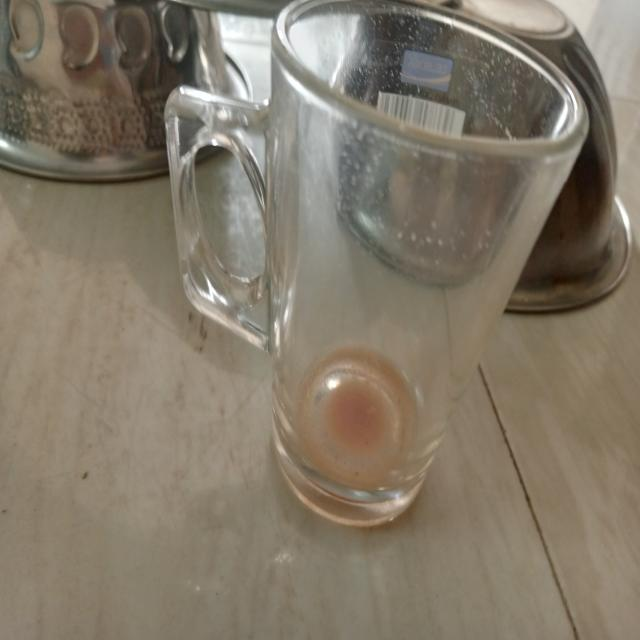glass-VX4N: (166, 0, 592, 527)
